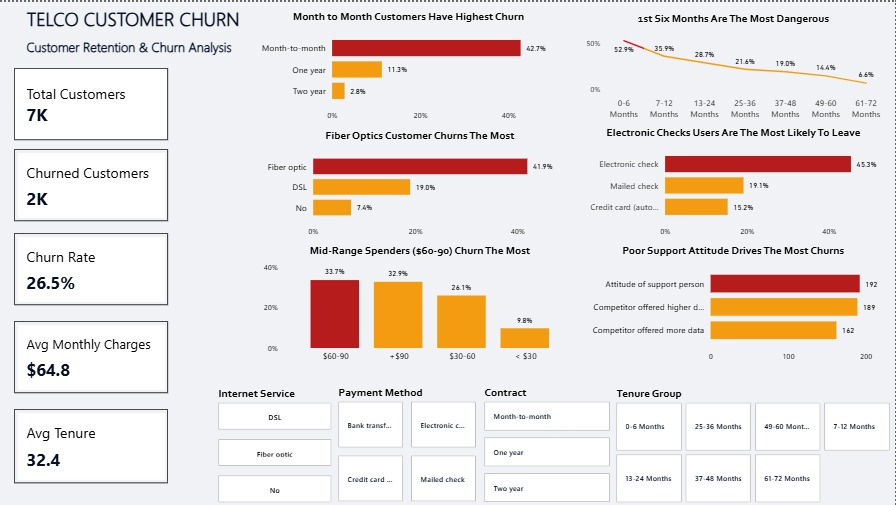

The dashboard page shown, as its layout file describes it:
{"tool":"powerbi","page":{"name":"Executive Dashboard ","canvas":[1280,720],"ordinal":0},"visuals":[{"type":"textbox","box":[9.8,0,363.2,72.1],"z":0},{"type":"textbox","box":[34.3,45.7,328.6,48.6],"z":1000},{"type":"cardVisual","fields":{"Data":["Telco_Churn.Total Customers"]},"box":[21.4,94.3,220.1,102.7],"z":2000},{"type":"cardVisual","fields":{"Data":["Telco_Churn.Churned Customers"]},"box":[21.4,210,220.1,102.7],"z":3000},{"type":"cardVisual","fields":{"Data":["Telco_Churn.Churn Rate"]},"box":[21.4,330,220.1,102.7],"z":4000},{"type":"barChart","title":"Month to Month Customers Have Highest Churn","fields":{"Category":["Telco_Churn.Contract"],"Y":["Telco_Churn.Churn Rate"]},"box":[362.9,10,444.3,170],"z":5000},{"type":"lineChart","title":"1st Six Months Are The Most Dangerous","fields":{"Category":["Telco_Churn.Tenure Group "],"Y":["Telco_Churn.Churn Rate"]},"box":[827.9,13.5,441.4,162.6],"z":6000},{"type":"clusteredBarChart","title":"Fiber Optics Customer Churns The Most","fields":{"Category":["Telco_Churn.Internet Service"],"Y":["Telco_Churn.Churn Rate"]},"box":[372.9,180,457.1,165.7],"z":7000},{"type":"barChart","title":"Electronic Checks Users Are The Most Likely To Leave","fields":{"Category":["Telco_Churn.Payment Method"],"Y":["Telco_Churn.Churn Rate"]},"box":[827.9,176.1,441.4,170],"z":8000},{"type":"columnChart","title":"Mid-Range Spenders ($60-90) Churn The Most","fields":{"Category":["Telco_Churn.Monthly Charges  Band"],"Y":["Telco_Churn.Churn Rate"]},"box":[372.9,344.3,457.1,180],"z":9000},{"type":"advancedSlicerVisual","fields":{"Values":["Telco_Churn.Contract"]},"box":[688.2,547.8,189.5,172.4],"z":10000},{"type":"advancedSlicerVisual","fields":{"Values":["Telco_Churn.Internet Service"]},"box":[309.1,548.1,171.2,172.4],"z":11000},{"type":"advancedSlicerVisual","fields":{"Values":["Telco_Churn.Payment Method"]},"box":[480.3,547.8,207.9,172.4],"z":12000},{"type":"advancedSlicerVisual","fields":{"Values":["Telco_Churn.Tenure Group "]},"box":[877.1,548.6,402.9,171.4],"z":13000},{"type":"cardVisual","fields":{"Data":["Telco_Churn.Avg Monthly Charges"]},"box":[21.4,455.7,220.1,102.7],"z":14000},{"type":"clusteredBarChart","title":"Poor Support Attitude Drives The Most Churns","fields":{"Category":["Telco_Churn.Churn Reason"],"Y":["Telco_Churn.Churned Customers"]},"box":[829.1,343.6,441,180],"z":15000},{"type":"cardVisual","fields":{"Data":["Telco_Churn.Avg Tenure"]},"box":[21.4,581.4,220,105.7],"z":16000}]}

Visuals, with their boxes in screenshot pixels (x1, y1, x2, y2), scaled from the page's 1280x720 canvas onto the 896x505 screenshot:
textbox: (left=7, top=0, right=261, bottom=51)
textbox: (left=24, top=32, right=254, bottom=66)
cardVisual - Telco_Churn.Total Customers: (left=15, top=66, right=169, bottom=138)
cardVisual - Telco_Churn.Churned Customers: (left=15, top=147, right=169, bottom=219)
cardVisual - Telco_Churn.Churn Rate: (left=15, top=231, right=169, bottom=303)
"Month to Month Customers Have Highest Churn" barChart: (left=254, top=7, right=565, bottom=126)
"1st Six Months Are The Most Dangerous" lineChart: (left=580, top=9, right=889, bottom=124)
"Fiber Optics Customer Churns The Most" clusteredBarChart: (left=261, top=126, right=581, bottom=242)
"Electronic Checks Users Are The Most Likely To Leave" barChart: (left=580, top=124, right=889, bottom=243)
"Mid-Range Spenders ($60-90) Churn The Most" columnChart: (left=261, top=241, right=581, bottom=368)
advancedSlicerVisual - Telco_Churn.Contract: (left=482, top=384, right=614, bottom=504)
advancedSlicerVisual - Telco_Churn.Internet Service: (left=216, top=384, right=336, bottom=504)
advancedSlicerVisual - Telco_Churn.Payment Method: (left=336, top=384, right=482, bottom=504)
advancedSlicerVisual - Telco_Churn.Tenure Group : (left=614, top=385, right=895, bottom=504)
cardVisual - Telco_Churn.Avg Monthly Charges: (left=15, top=320, right=169, bottom=392)
"Poor Support Attitude Drives The Most Churns" clusteredBarChart: (left=580, top=241, right=889, bottom=367)
cardVisual - Telco_Churn.Avg Tenure: (left=15, top=408, right=169, bottom=482)
